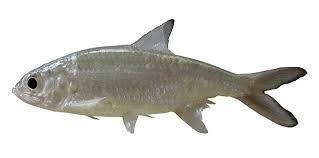Indo-Pacific Tarpon: (12, 18, 307, 136)
